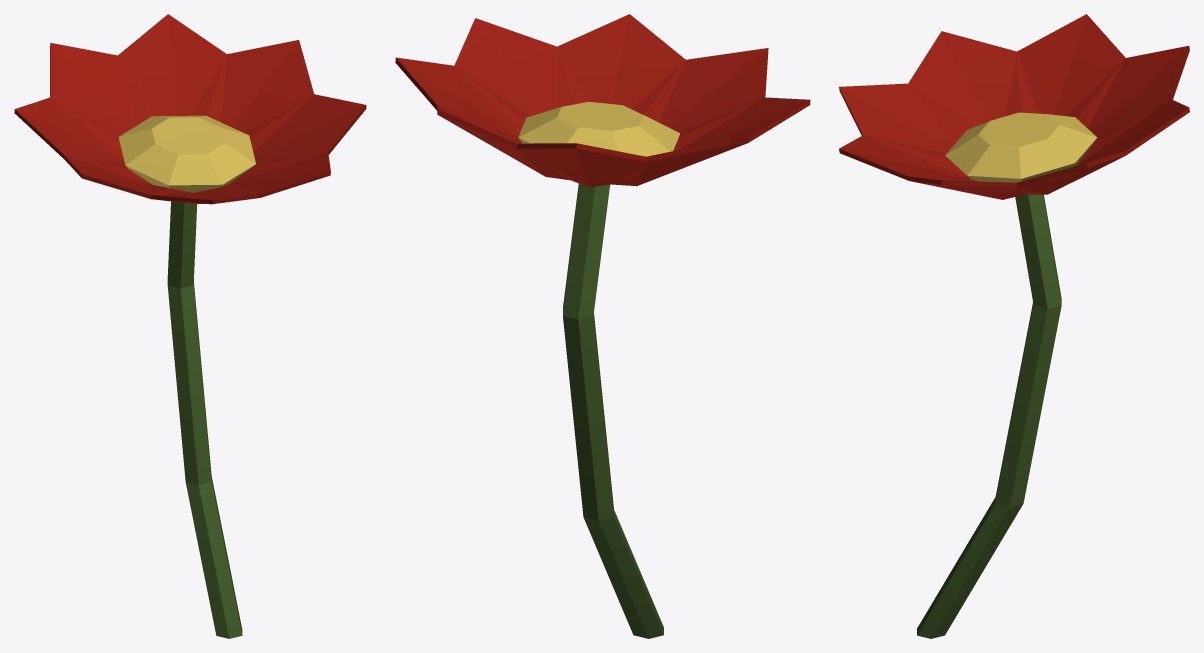
Rendered from Env_Flowers_04.obj.
The picture shows the model from 3 angles, left to right: view 1: azimuth 30°, elevation 25°; view 2: azimuth 150°, elevation 25°; view 3: azimuth 270°, elevation 25°; orthographic projection. The views are drawn at different scales.
Visible parts, largest first — view 1: Env_Flowers_04; view 2: Env_Flowers_04; view 3: Env_Flowers_04.
Part boxes in pixels (x1,y1,x2,y2): Env_Flowers_04: (14,14,366,638); Env_Flowers_04: (395,14,810,638); Env_Flowers_04: (839,14,1189,638).
Bounding box in the file's own units: 0.1996 × 0.3465 × 0.1984.
1 material, 1 textured.
